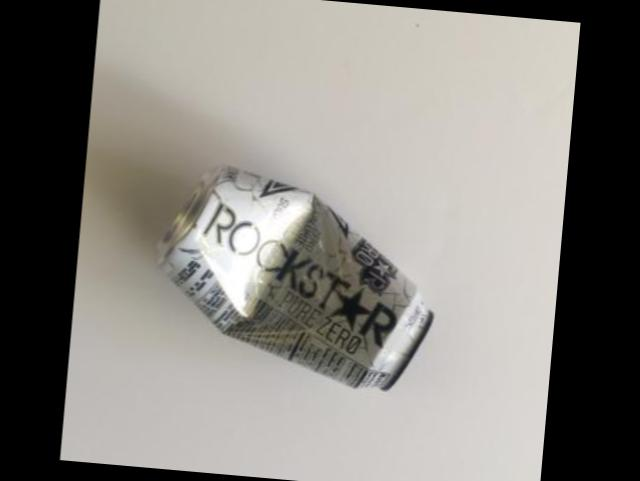metal: (157, 167, 429, 389)
